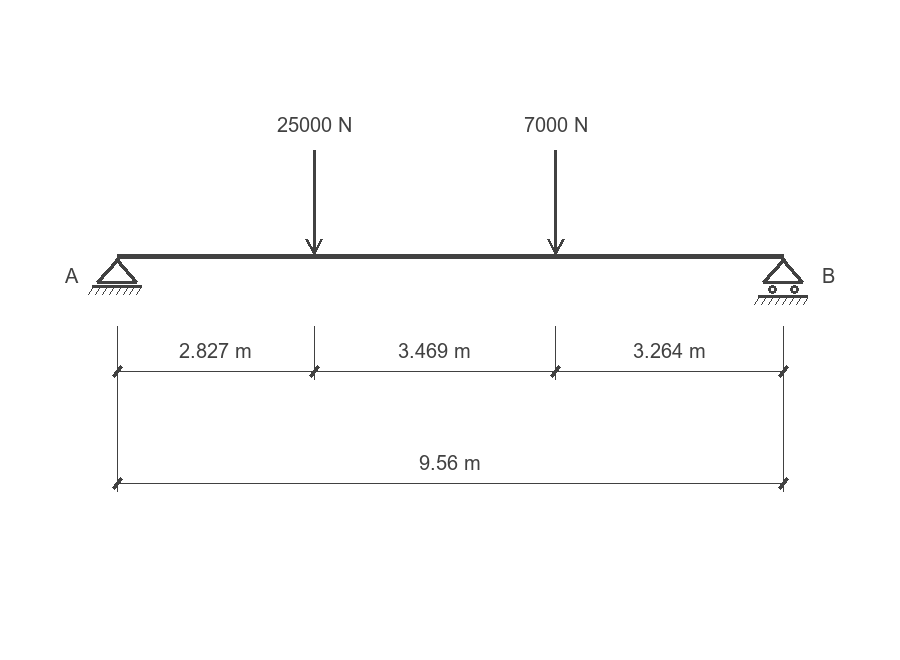pin_support: (88, 258, 142, 295)
point_load: (305, 150, 323, 254), (547, 150, 565, 254)
roller_support: (754, 258, 808, 305)
